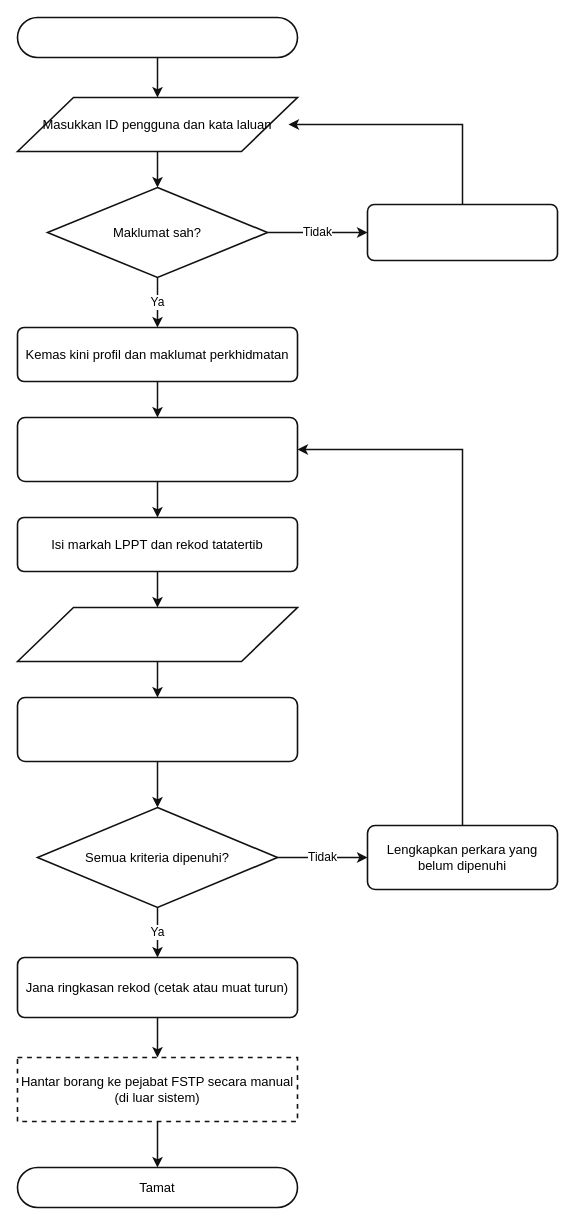
This 576x1226 diagram has some shape labels left out. Each missing label, with the centre of its shape:
"Isi rekod kriteria KP dan muat naik dokumen sokongan" goes at point 157,449.
"Mula" goes at point 157,37.
"Papar mesej ralat" goes at point 462,232.
"Pilih gred sasaran" goes at point 157,634.
"Sistem menyemak kriteria dan memaparkan bar kemajuan" goes at point 157,729.
